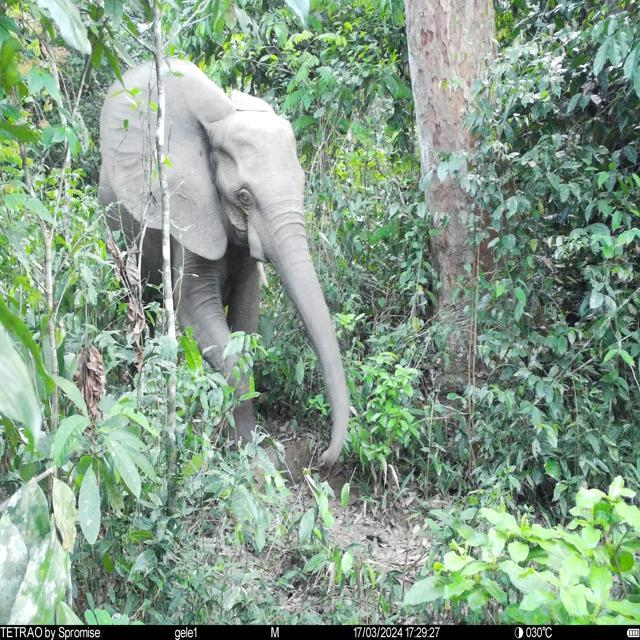ear: (97, 56, 237, 260), (231, 90, 273, 112)
elephant: (97, 57, 350, 464)
tusk: (255, 259, 271, 288)
